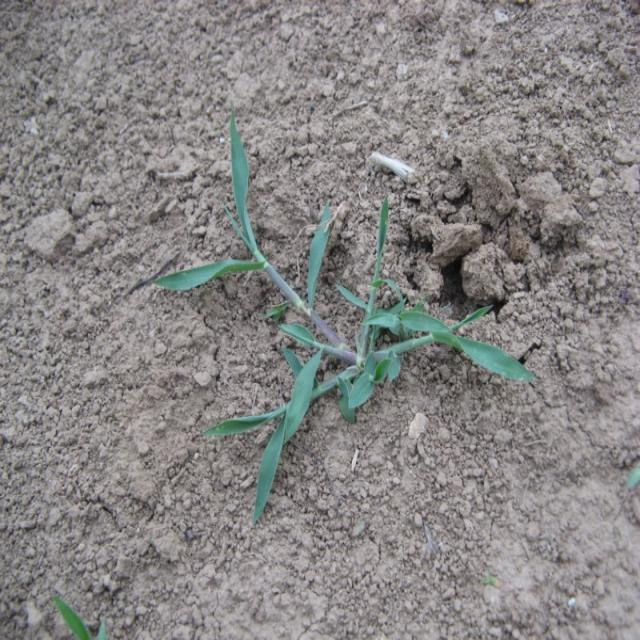bg: (154, 111, 535, 519)
